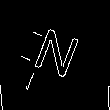N_S: (27, 24, 83, 86)
